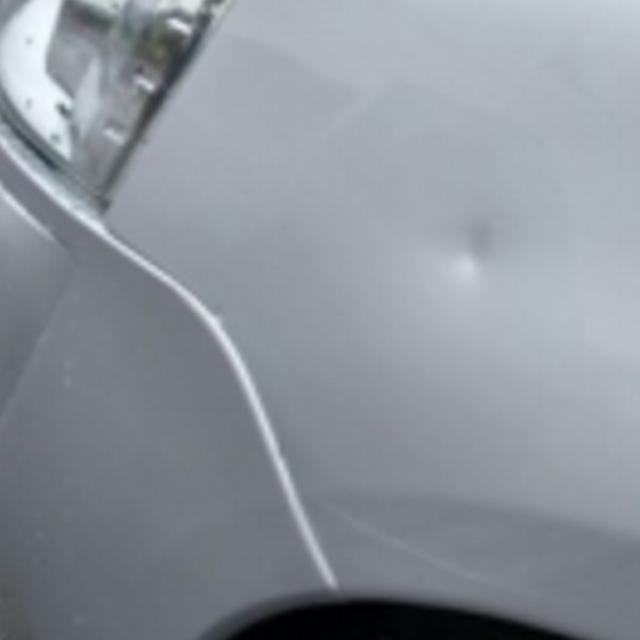dents: (402, 219, 525, 318)
